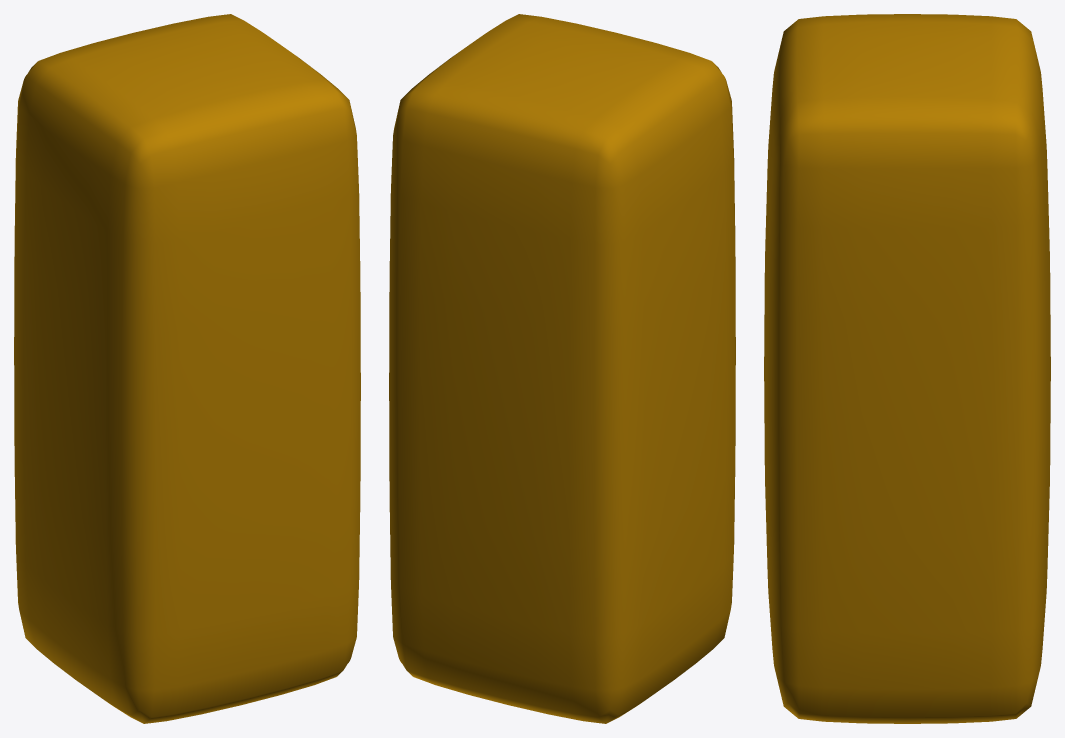
The model's file is Fridge.fbx.
The picture shows the model from 3 angles, left to right: view 1: azimuth 30°, elevation 25°; view 2: azimuth 150°, elevation 25°; view 3: azimuth 270°, elevation 25°; orthographic projection. The views are drawn at different scales.
Visible parts, largest first — view 1: pCube2; view 2: pCube2; view 3: pCube2.
Boxes of the visible parts, box(x1,y1,x2,y2) form: pCube2: box(14, 14, 360, 723); pCube2: box(389, 14, 735, 723); pCube2: box(764, 14, 1050, 723).
Bounding box in the file's own units: 226 × 521 × 216.
